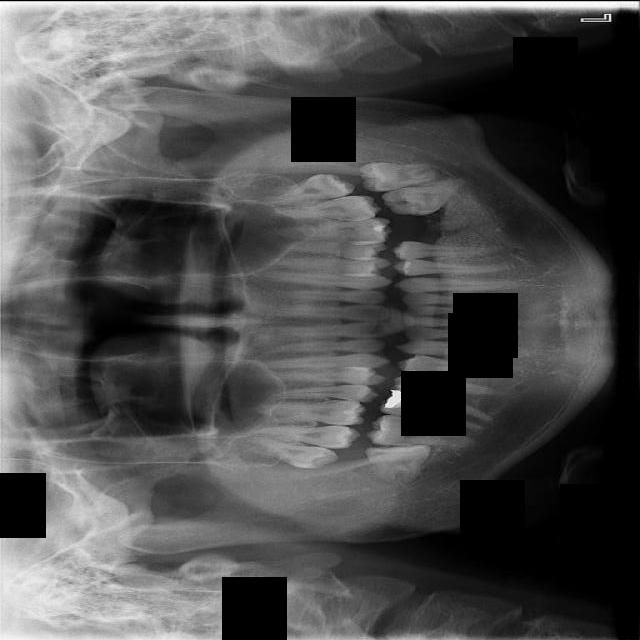3M ESPE Implant: (239, 436, 340, 472)
52: (378, 375, 428, 427), (338, 215, 392, 245)
73: (576, 34, 589, 47)
BioHorizons Implant: (267, 190, 382, 235)
BioLife Implant: (260, 166, 357, 212)
Biomet 3i Implant: (358, 152, 437, 193)
Blue Sky Bio Implant: (381, 176, 463, 222)
Caries: (246, 424, 361, 450)
Implant: (366, 412, 476, 449)
Keystone Dental Implant: (364, 437, 434, 487)
